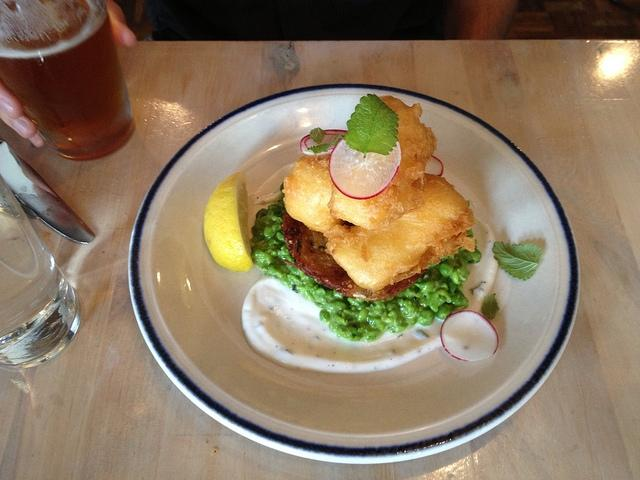lemon: (203, 172, 253, 272)
radish: (329, 138, 401, 200), (440, 310, 499, 362), (300, 130, 348, 156), (304, 134, 338, 150), (424, 155, 444, 177)
